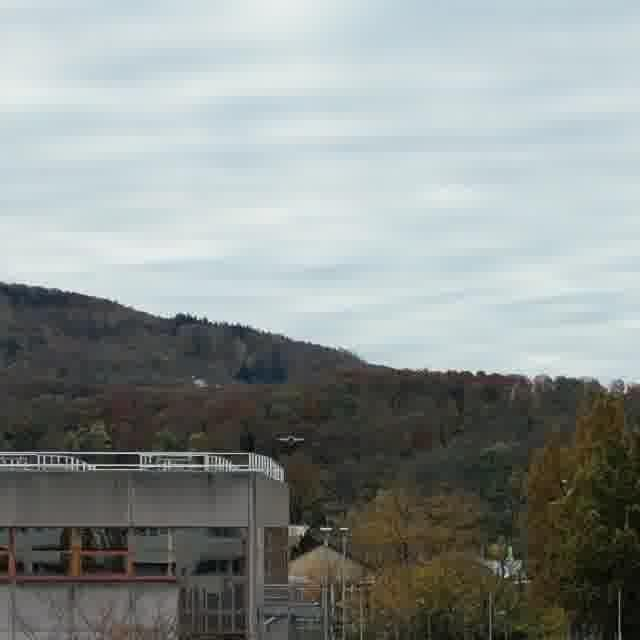Drohne: (279, 434, 303, 444)
